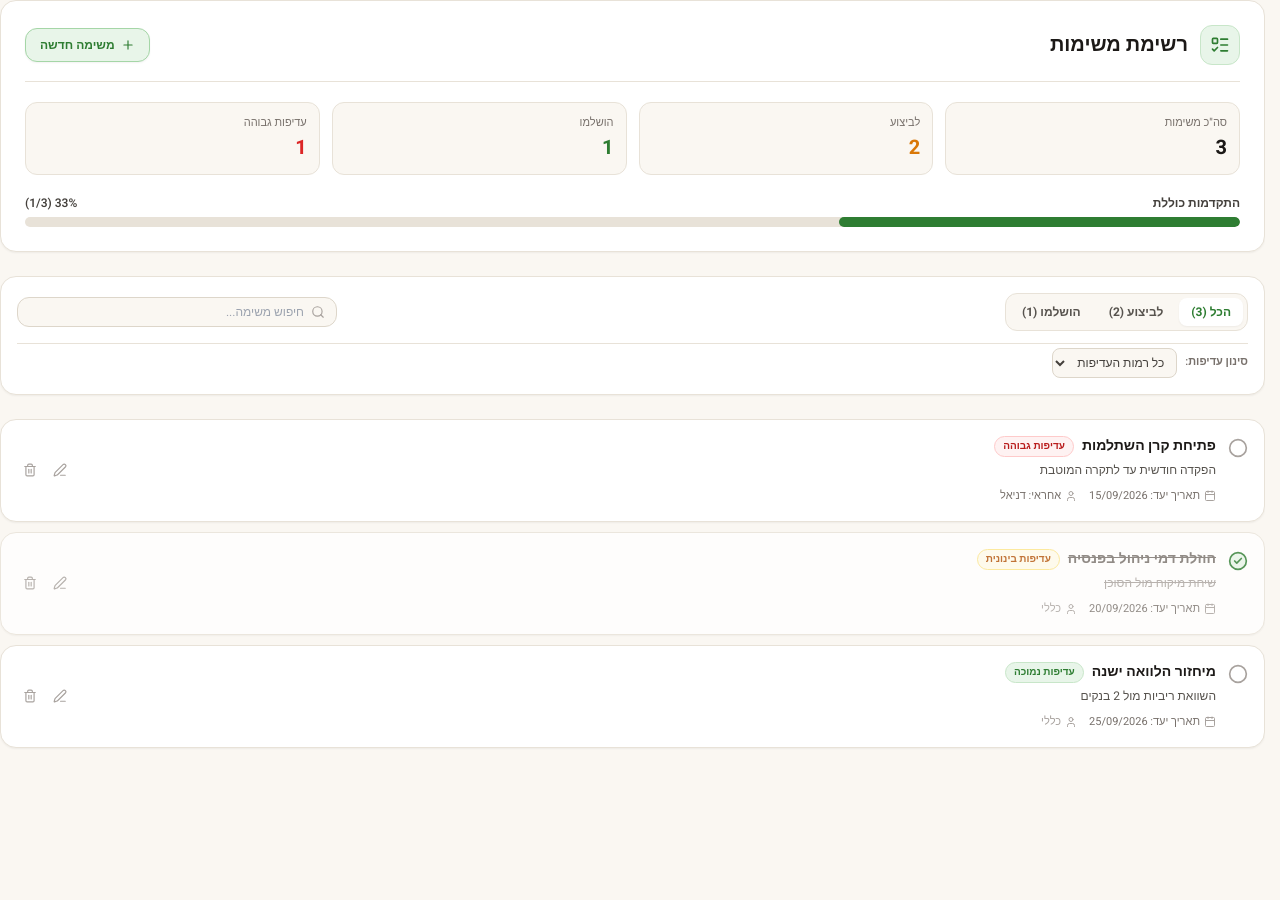
Test: FinancialTaskList Component › filters tasks by text search
Step 1. Type "מיחזור" into the field with placeholder "חיפוש משימה..." → (177, 312), box [17,296,337,326]
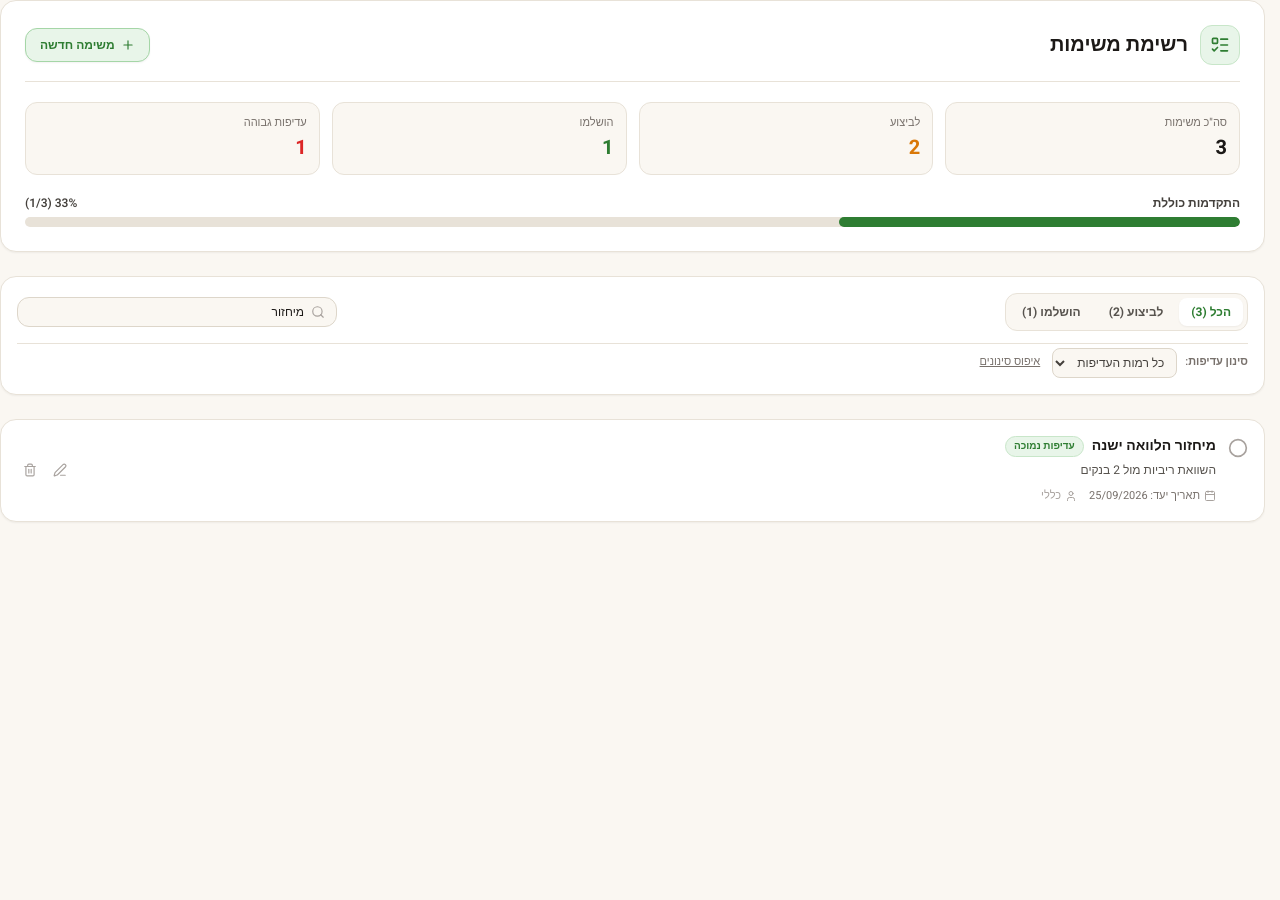
Expected: the heading "מיחזור הלוואה ישנה" is shown, [1092,437,1216,455]
Result: the heading "פתיחת קרן השתלמות" is gone
Result: the heading "הוזלת דמי ניהול בפנסיה" is gone
